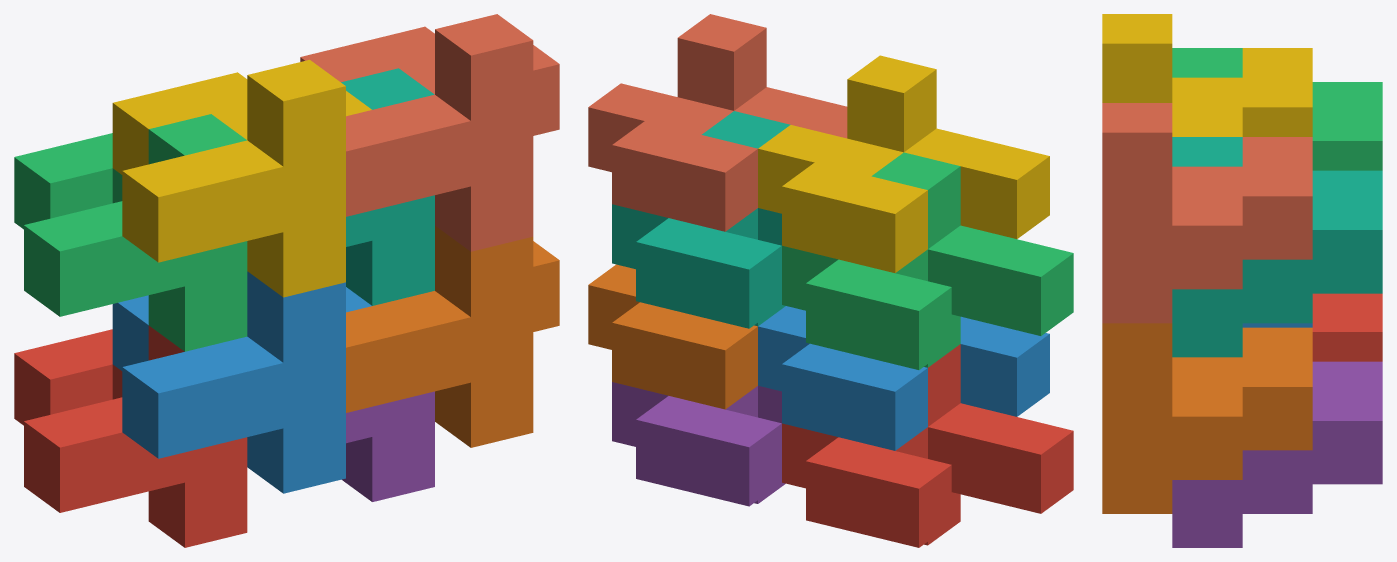
The model's file is tiling.obj.
3 renders of one model, left to right at view 1: azimuth 30°, elevation 25°; view 2: azimuth 150°, elevation 25°; view 3: azimuth 270°, elevation 25°, orthographic. The views are drawn at different scales.
Visible parts, largest first — view 1: copy_1_domain_4, copy_1_domain_8, copy_1_domain_2, copy_1_domain_6, copy_1_domain_3, copy_1_domain_1, copy_1_domain_7, copy_1_domain_5; view 2: copy_1_domain_4, copy_1_domain_3, copy_1_domain_1, copy_1_domain_8, copy_1_domain_2, copy_1_domain_7, copy_1_domain_5, copy_1_domain_6; view 3: copy_1_domain_8, copy_1_domain_6, copy_1_domain_7, copy_1_domain_5, copy_1_domain_4, copy_1_domain_3, copy_1_domain_1, copy_1_domain_2.
Part boxes in pixels (<box>): copy_1_domain_4: <box>112,59,371,297</box>; copy_1_domain_8: <box>300,14,559,251</box>; copy_1_domain_2: <box>112,271,371,493</box>; copy_1_domain_6: <box>346,226,559,447</box>; copy_1_domain_3: <box>14,114,247,351</box>; copy_1_domain_1: <box>14,325,247,547</box>; copy_1_domain_7: <box>341,68,434,305</box>; copy_1_domain_5: <box>342,391,434,501</box>; copy_1_domain_4: <box>758,55,1049,272</box>; copy_1_domain_3: <box>782,152,1073,369</box>; copy_1_domain_1: <box>782,344,1073,547</box>; copy_1_domain_8: <box>588,14,847,231</box>; copy_1_domain_2: <box>758,306,1049,450</box>; copy_1_domain_7: <box>612,111,790,328</box>; copy_1_domain_5: <box>612,382,785,506</box>; copy_1_domain_6: <box>588,264,757,409</box>; copy_1_domain_8: <box>1102,103,1312,323</box>; copy_1_domain_6: <box>1102,323,1312,513</box>; copy_1_domain_7: <box>1172,137,1382,357</box>; copy_1_domain_5: <box>1172,361,1382,547</box>; copy_1_domain_4: <box>1102,14,1312,136</box>; copy_1_domain_3: <box>1172,48,1382,170</box>; copy_1_domain_1: <box>1312,293,1382,361</box>; copy_1_domain_2: <box>1242,323,1312,327</box>.
Bounding box in the file's own units: 8 × 7 × 4.
